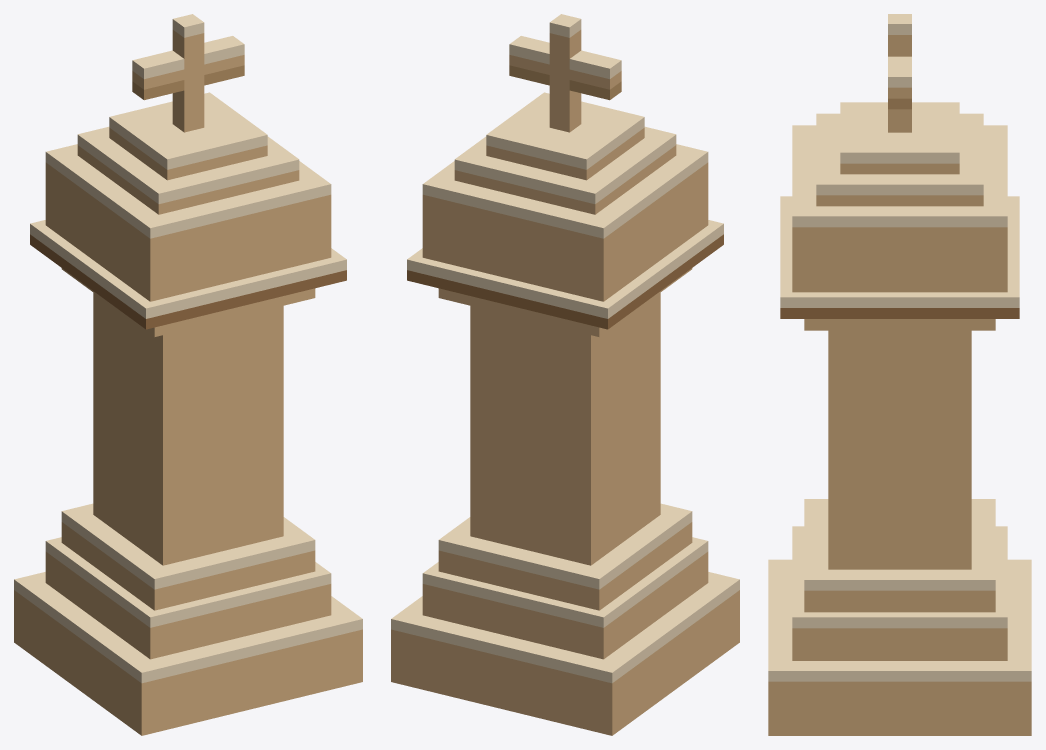
Rendered from king.obj.
The picture shows the model from 3 angles, left to right: view 1: azimuth 30°, elevation 25°; view 2: azimuth 150°, elevation 25°; view 3: azimuth 270°, elevation 25°; orthographic projection. The views are drawn at different scales.
Parts seen in each view (by area): view 1: king; view 2: king; view 3: king.
Part boxes in pixels (box(x1,y1,x2,y2)): king: box(14, 14, 362, 735); king: box(391, 14, 739, 735); king: box(768, 14, 1031, 735).
Size of the model in its own units: 0.462 by 1.28 by 0.462.
Materials: 1 (1 with a texture image).
